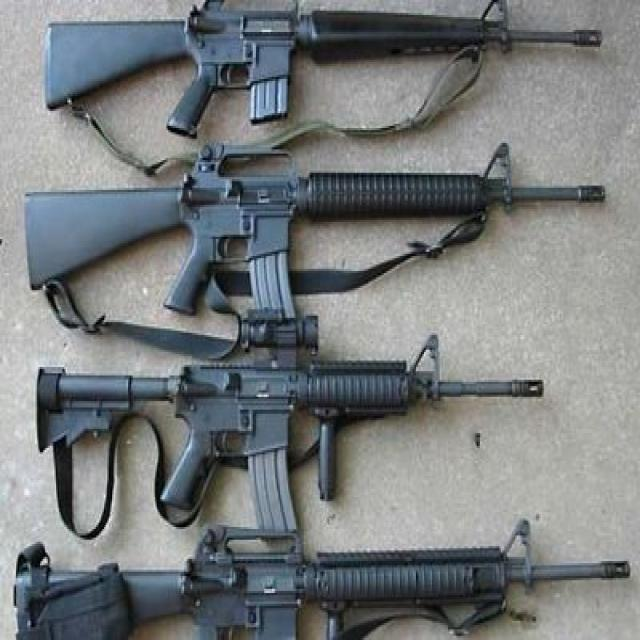Rifle: (35, 309, 544, 533), (24, 143, 606, 320), (43, 0, 603, 139), (310, 521, 632, 640), (14, 525, 306, 640)
